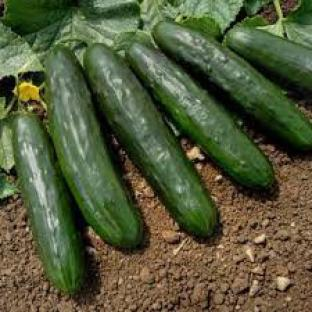Cucumber: (85, 45, 217, 235), (128, 43, 274, 188), (153, 23, 311, 149), (46, 46, 142, 248), (13, 116, 84, 293), (227, 27, 311, 91)
